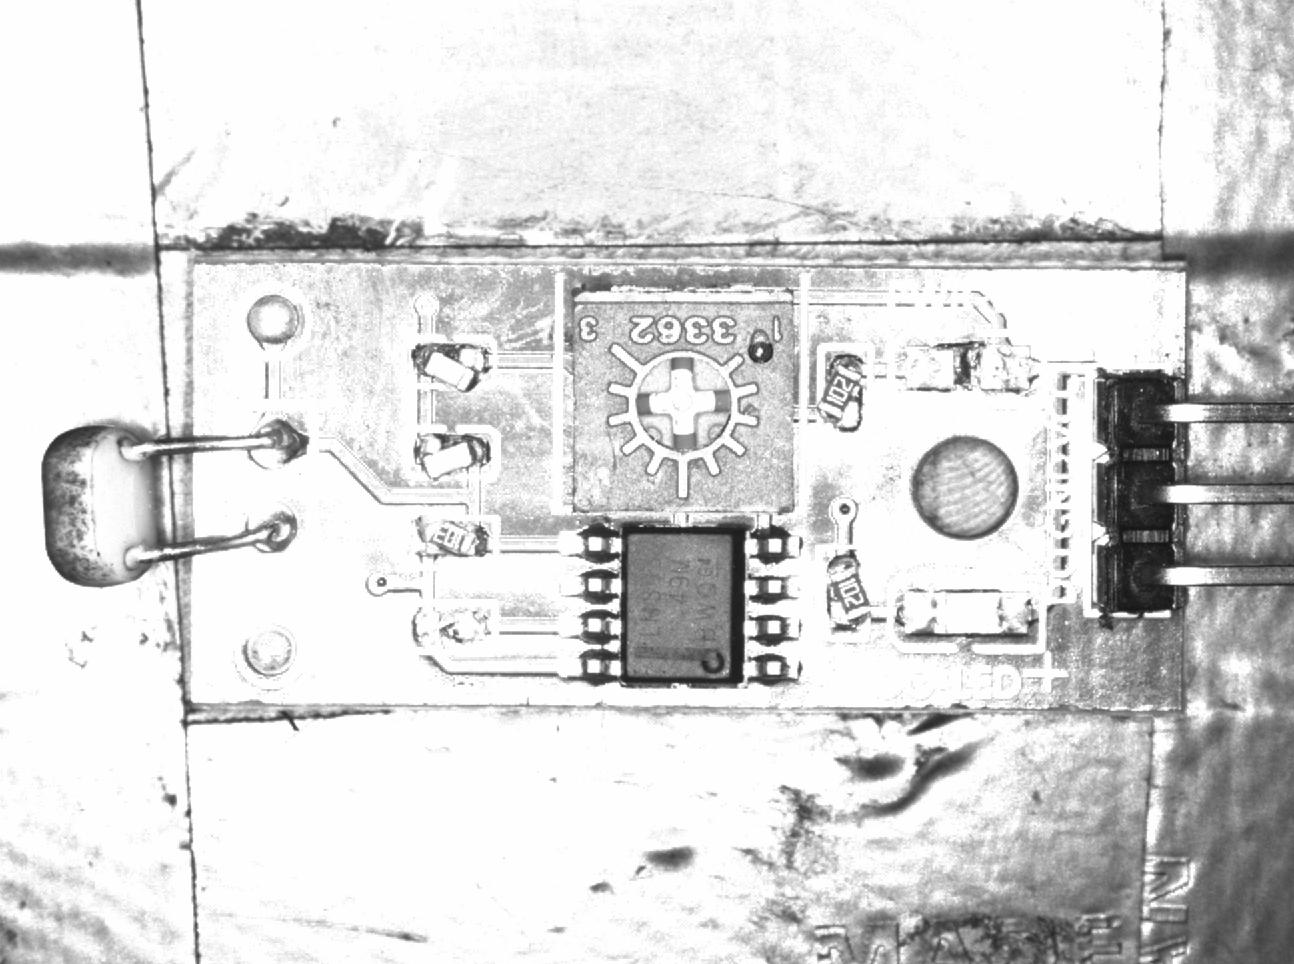lifted: (400, 427, 499, 482), (816, 345, 874, 436), (399, 514, 502, 564), (821, 549, 876, 642), (408, 338, 494, 393)
miss: (399, 601, 499, 654)
